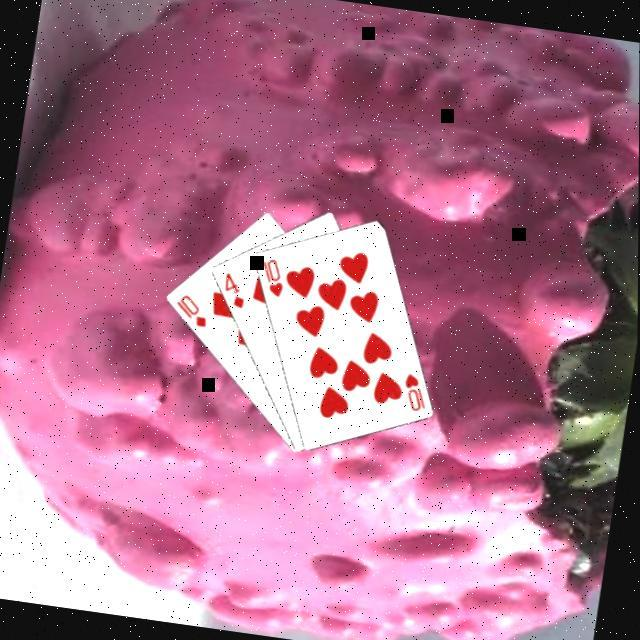10D: (172, 288, 216, 329)
10H: (400, 366, 436, 414), (258, 252, 292, 300)
4D: (220, 266, 253, 310)
